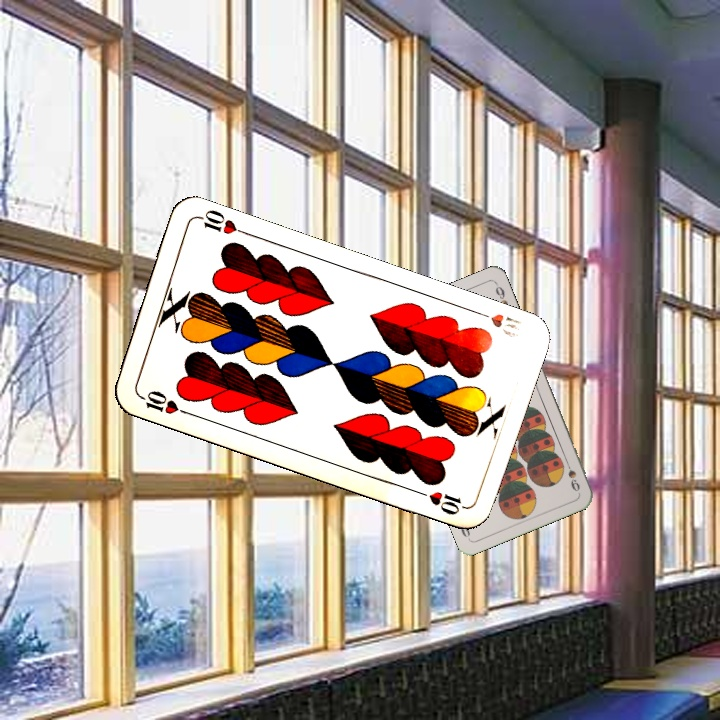H10: (134, 386, 191, 417), (470, 306, 523, 331)
S9: (561, 455, 583, 494)
